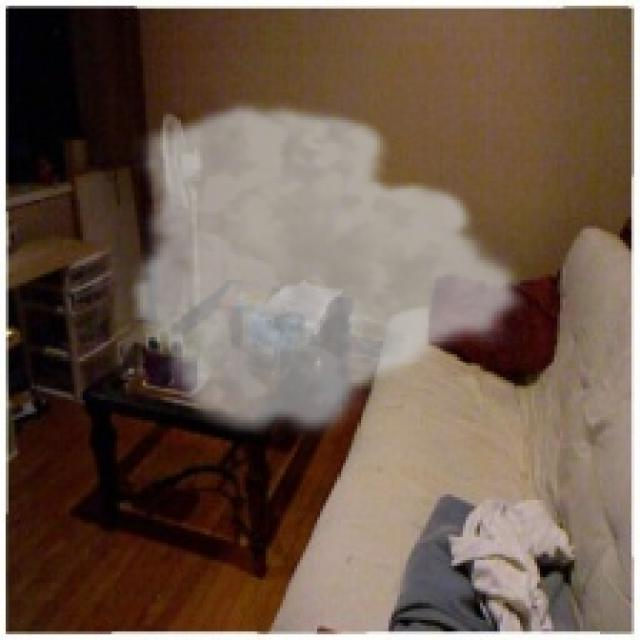smoke: (126, 97, 528, 443)
